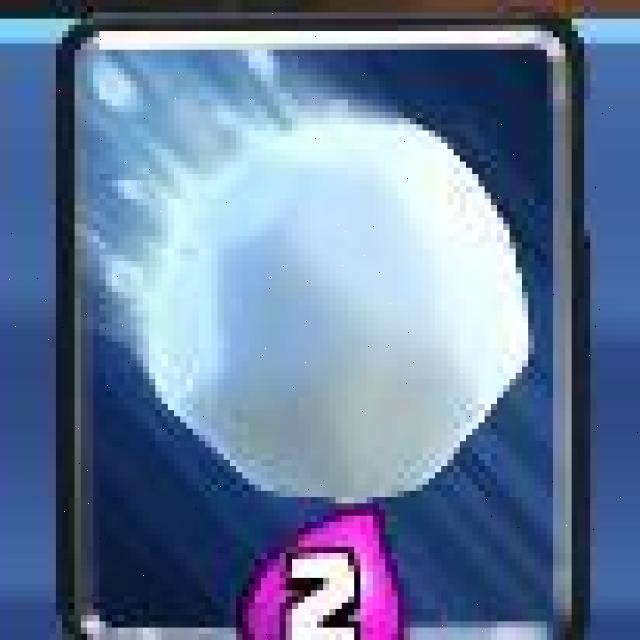Snowball: (57, 16, 592, 640)
